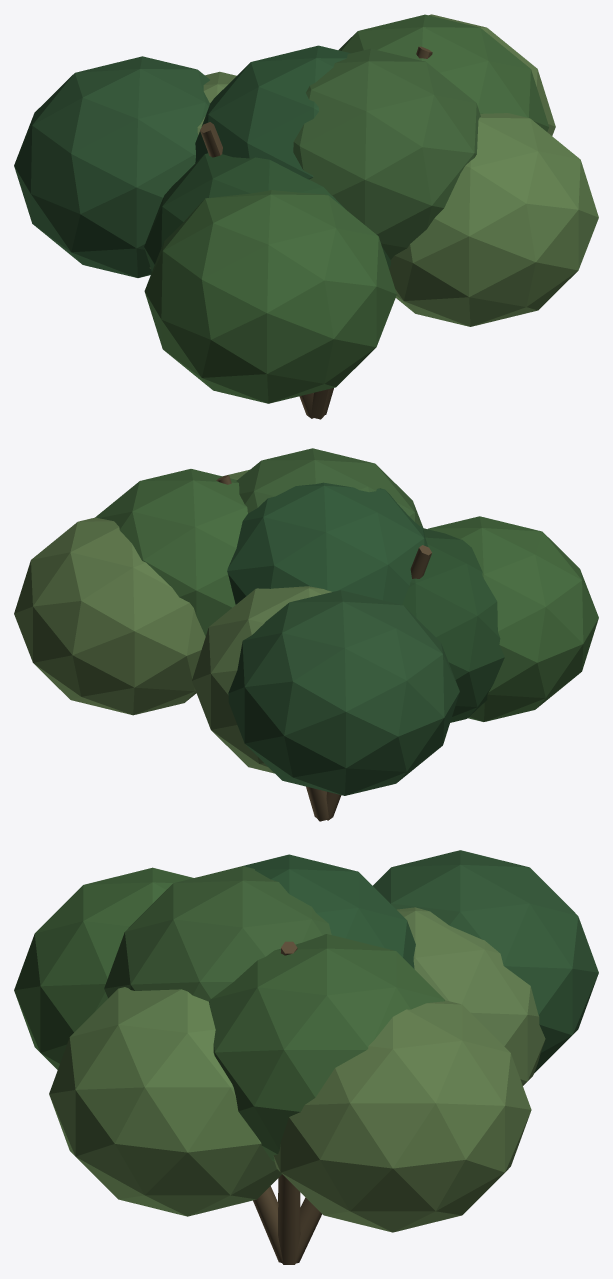
File: shrub-round.mid.glb
The picture shows the model from 3 angles, top to bottom: view 1: azimuth 30°, elevation 25°; view 2: azimuth 150°, elevation 25°; view 3: azimuth 270°, elevation 25°; orthographic projection. The views are drawn at different scales.
Parts seen in each view (by area): view 1: foliage, wood; view 2: foliage, wood; view 3: foliage, wood.
Boxes of the visible parts, x1,y1,x2,y2 form: foliage: [14, 14, 598, 403]; wood: [200, 46, 432, 419]; foliage: [14, 448, 598, 795]; wood: [216, 475, 431, 821]; foliage: [14, 850, 598, 1232]; wood: [253, 941, 321, 1264].
Size of the model in its own units: 2.53 by 1.8 by 2.39.
